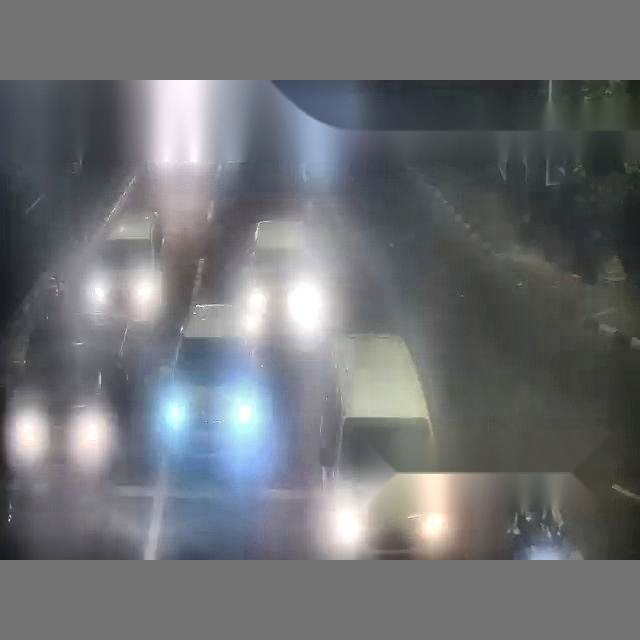Motor: (287, 274, 322, 350)
